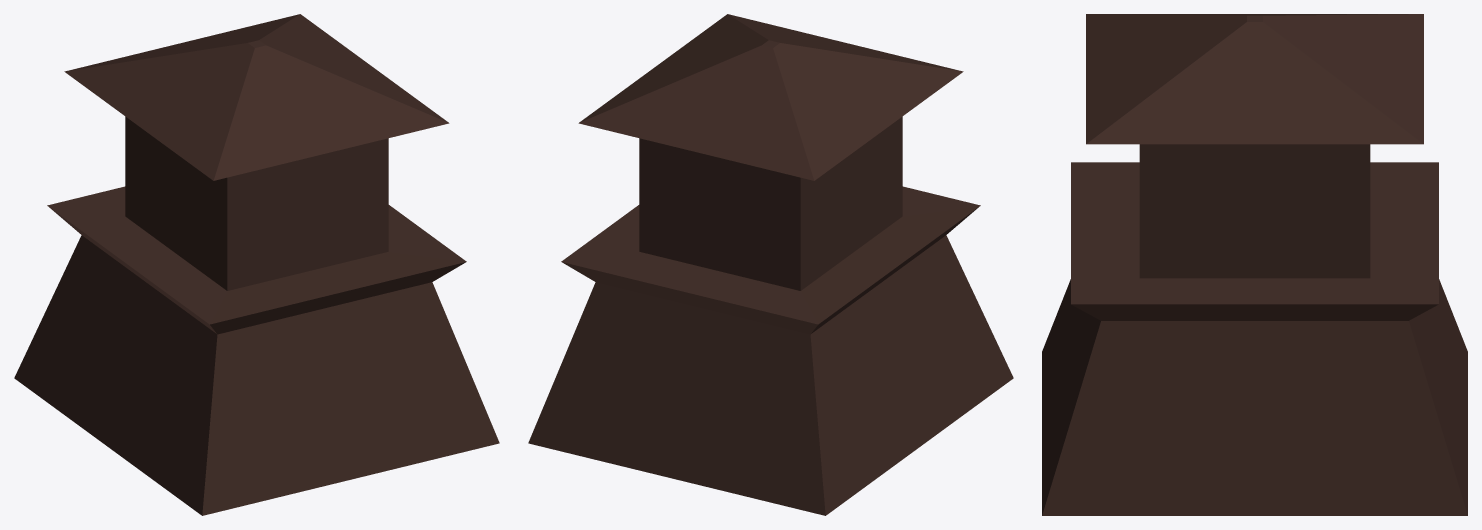
Rendered from tower.glb.
3 renders of one model, left to right at view 1: azimuth 30°, elevation 25°; view 2: azimuth 150°, elevation 25°; view 3: azimuth 270°, elevation 25°, orthographic. The views are drawn at different scales.
Parts seen in each view (by area): view 1: tower; view 2: tower; view 3: tower.
Boxes of the visible parts, box(x1,y1,x2,y2) form: tower: box(14, 14, 499, 515); tower: box(528, 14, 1013, 515); tower: box(1042, 14, 1467, 515).
Bounding box in the file's own units: 7.17 × 8.44 × 7.85.
